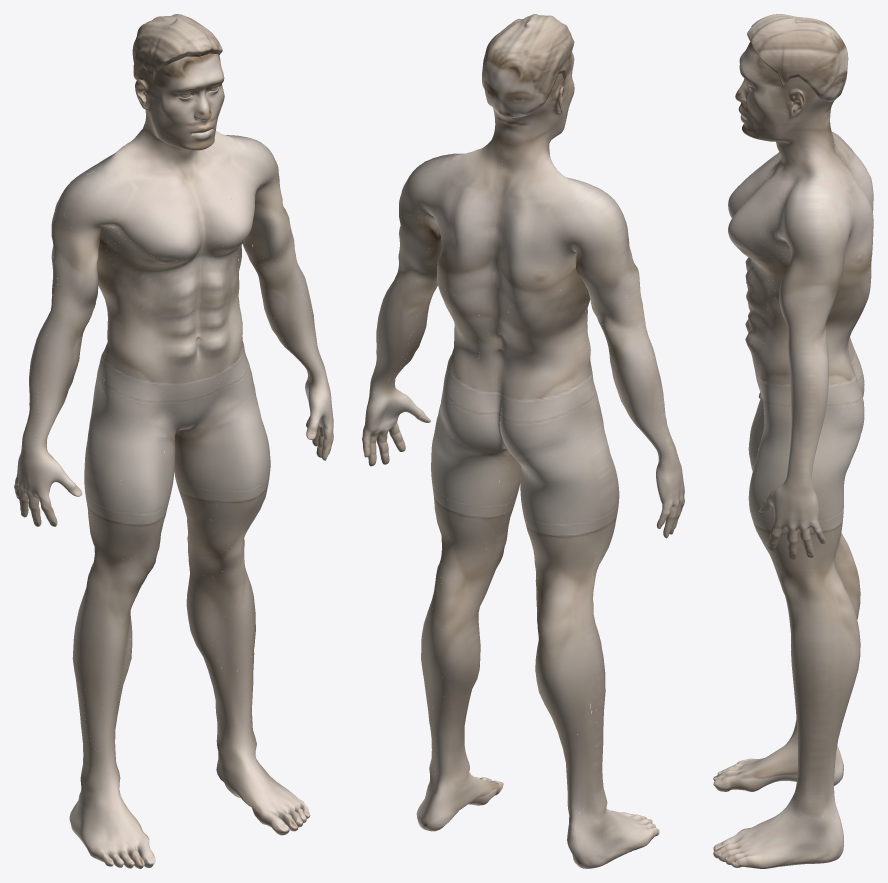
File: male-fixed.glb
The picture shows the model from 3 angles, left to right: view 1: azimuth 30°, elevation 25°; view 2: azimuth 150°, elevation 25°; view 3: azimuth 270°, elevation 25°; orthographic projection.
Visible parts, largest first — view 1: fitcheck_body, muscle__obliques__R, muscle__vastus_lateralis__R, muscle__abs__R, muscle__rectus_femoris__R, portrait_hair, muscle__forearm_flexors__L, muscle__rectus_femoris__L, muscle__chest_middle__R, muscle__soleus__L, muscle__abs__L, muscle__forearm_flexors__R (+18 smaller); view 2: fitcheck_body, portrait_hair, muscle__lats__R, muscle__gluteus_maximus__L, muscle__gluteus_maximus__R, muscle__hamstrings_medial__L, muscle__forearm_extensors__R, muscle__hamstrings_lateral__R, muscle__gastrocnemius_medial__L, muscle__gastrocnemius_lateral__R, muscle__forearm_extensors__L, muscle__hamstrings_medial__R (+30 smaller); view 3: fitcheck_body, portrait_hair, muscle__vastus_lateralis__L, muscle__obliques__L, muscle__lats__L, muscle__hamstrings_lateral__L, muscle__brachioradialis__L, muscle__gluteus_medius__L, muscle__gastrocnemius_lateral__L, muscle__soleus__L, muscle__abs__L, muscle__chest_middle__L (+21 smaller).
Boxes of the visible parts, x1,y1,x2,y2 form: fitcheck_body: (14, 53, 333, 868); muscle__obliques__R: (102, 291, 167, 400); muscle__vastus_lateralis__R: (81, 440, 135, 562); muscle__abs__R: (159, 271, 195, 399); muscle__rectus_femoris__R: (121, 432, 163, 558); portrait_hair: (132, 14, 222, 82); muscle__forearm_flexors__L: (265, 262, 324, 382); muscle__rectus_femoris__L: (222, 414, 268, 533); muscle__chest_middle__R: (130, 201, 200, 259); muscle__soleus__L: (209, 646, 254, 756); muscle__abs__L: (203, 264, 230, 395); muscle__forearm_flexors__R: (36, 307, 92, 449); fitcheck_body: (362, 25, 684, 868); portrait_hair: (482, 14, 574, 118); muscle__lats__R: (506, 273, 585, 395); muscle__gluteus_maximus__L: (431, 396, 505, 482); muscle__gluteus_maximus__R: (500, 405, 594, 507); muscle__hamstrings_medial__L: (446, 475, 497, 588); muscle__forearm_extensors__R: (604, 326, 669, 462); muscle__hamstrings_lateral__R: (551, 492, 596, 615); muscle__gastrocnemius_medial__L: (441, 597, 484, 709); muscle__gastrocnemius_lateral__R: (544, 637, 595, 738); muscle__forearm_extensors__L: (371, 273, 419, 393); muscle__hamstrings_medial__R: (521, 482, 562, 608); fitcheck_body: (713, 42, 871, 868); portrait_hair: (747, 14, 848, 101); muscle__vastus_lateralis__L: (762, 447, 821, 573); muscle__obliques__L: (758, 301, 790, 401); muscle__lats__L: (825, 283, 870, 374); muscle__hamstrings_lateral__L: (813, 493, 848, 598); muscle__brachioradialis__L: (796, 327, 822, 425); muscle__gluteus_medius__L: (819, 386, 861, 436); muscle__gastrocnemius_lateral__L: (832, 618, 860, 723); muscle__soleus__L: (793, 706, 841, 800); muscle__abs__L: (745, 260, 765, 387); muscle__chest_middle__L: (728, 193, 774, 251).
Bounding box in the file's own units: 0.7238 × 1.81 × 0.3271.
Materials: 1 (1 with a texture image).
